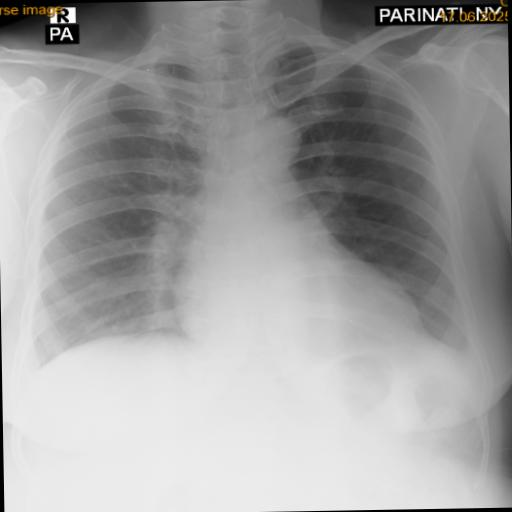kardiomegali: (10, 19, 492, 410)
